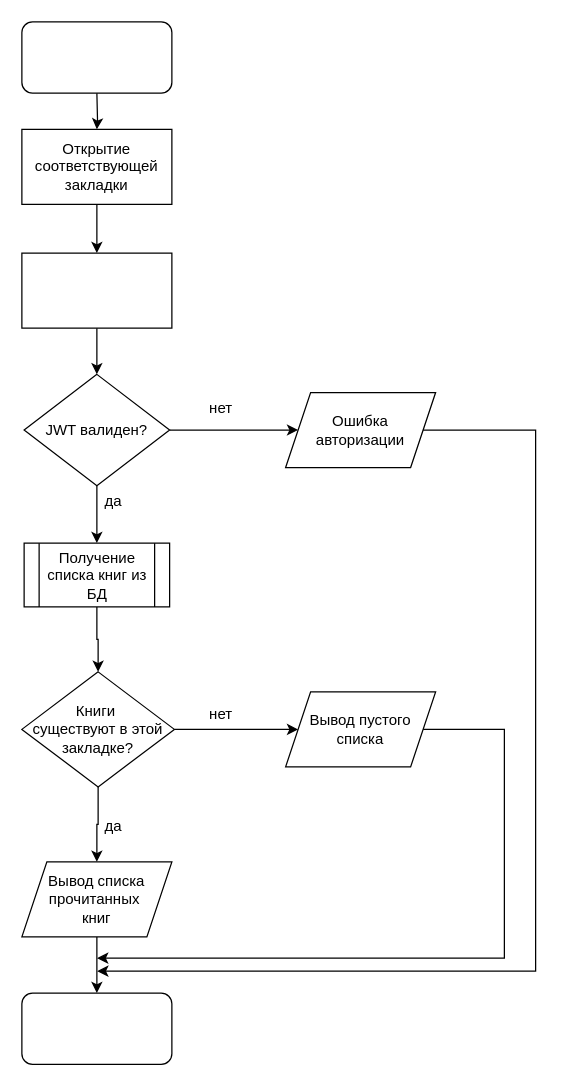
The diagram is 568 pixels wide and 1086 high, and some of its shapes have lost their labels. Each missing label, with the centre of its shape:
"Конец" goes at pixel 96 1028.
"Начало" goes at pixel 96 57.
"Отправка на сервер запроса с JWT" goes at pixel 96 290.
